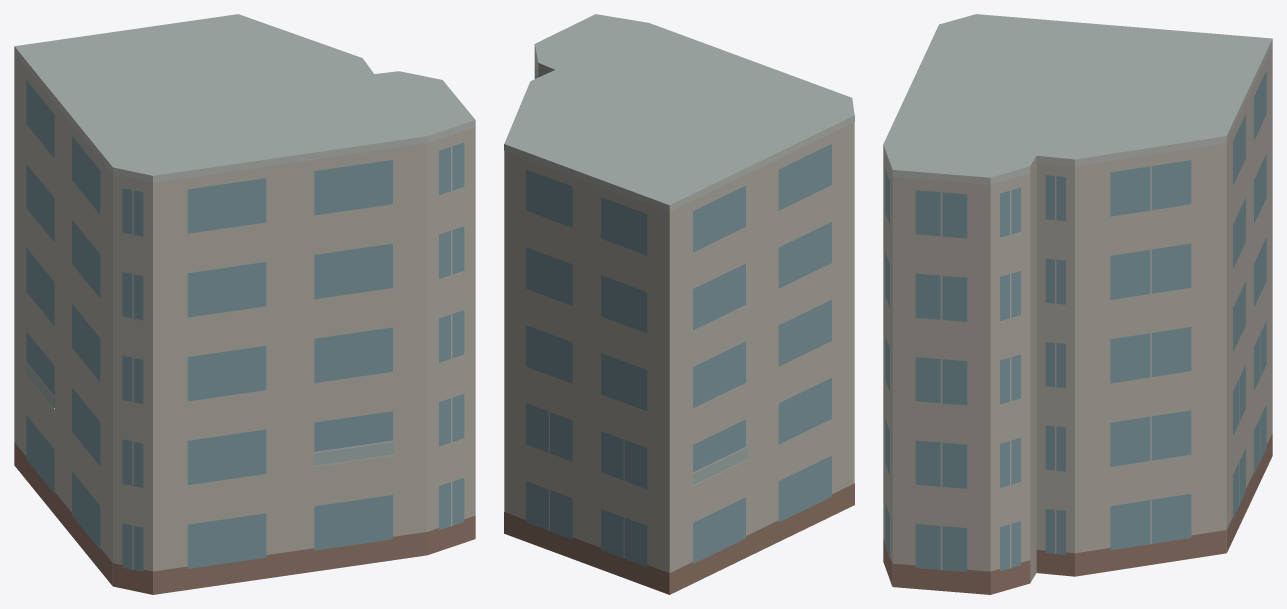
File: survey-upis-32693538.glb
The picture shows the model from 3 angles, left to right: view 1: azimuth 30°, elevation 25°; view 2: azimuth 150°, elevation 25°; view 3: azimuth 270°, elevation 25°; orthographic projection. The views are drawn at different scales.
Visible parts, largest first — view 1: survey-upis-32693538.tmp; view 2: survey-upis-32693538.tmp; view 3: survey-upis-32693538.tmp.
Boxes of the visible parts, bbox=[...] form: survey-upis-32693538.tmp: bbox=[14, 14, 475, 594]; survey-upis-32693538.tmp: bbox=[504, 14, 854, 594]; survey-upis-32693538.tmp: bbox=[883, 14, 1272, 594].
Size of the model in its own units: 12.21 by 14.5 by 12.27.
